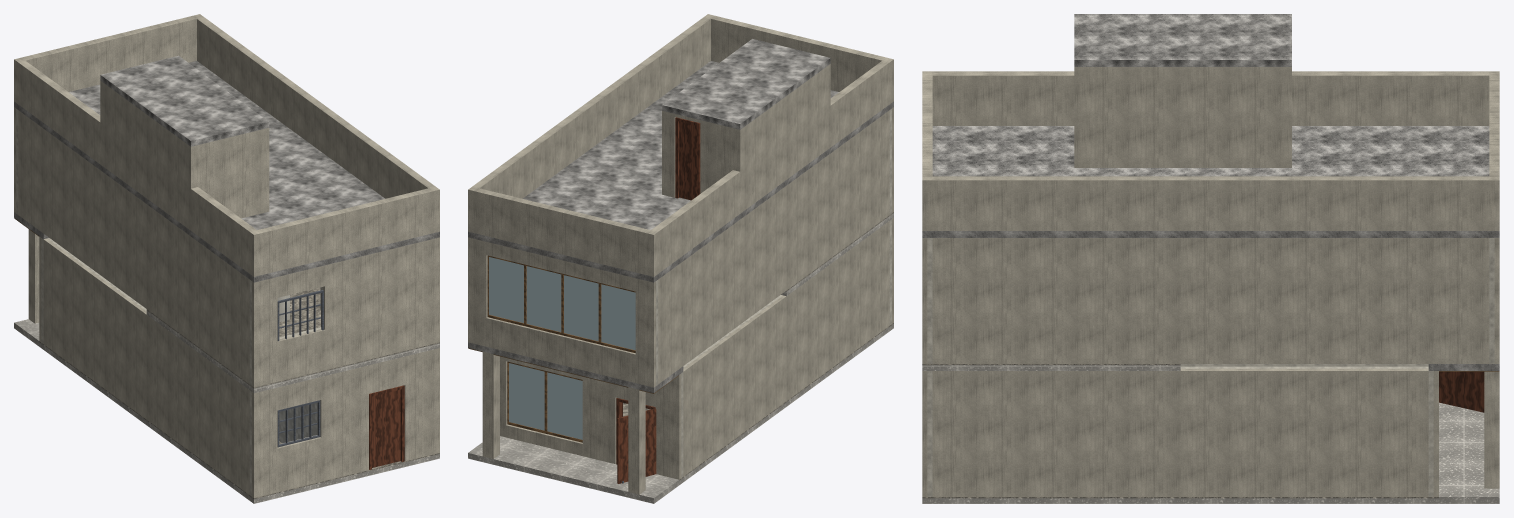
Rendered from rowhouse_1950.fbx.
The picture shows the model from 3 angles, left to right: view 1: azimuth 30°, elevation 25°; view 2: azimuth 150°, elevation 25°; view 3: azimuth 270°, elevation 25°; orthographic projection. The views are drawn at different scales.
Parts seen in each view (by area): view 1: rowhouse_1950; view 2: rowhouse_1950; view 3: rowhouse_1950.
Boxes of the visible parts, x1=… form: rowhouse_1950: x1=14, y1=14, x2=439, y2=503; rowhouse_1950: x1=468, y1=14, x2=893, y2=503; rowhouse_1950: x1=922, y1=14, x2=1499, y2=503.
Bounding box in the file's own units: 510 × 830 × 1140.
